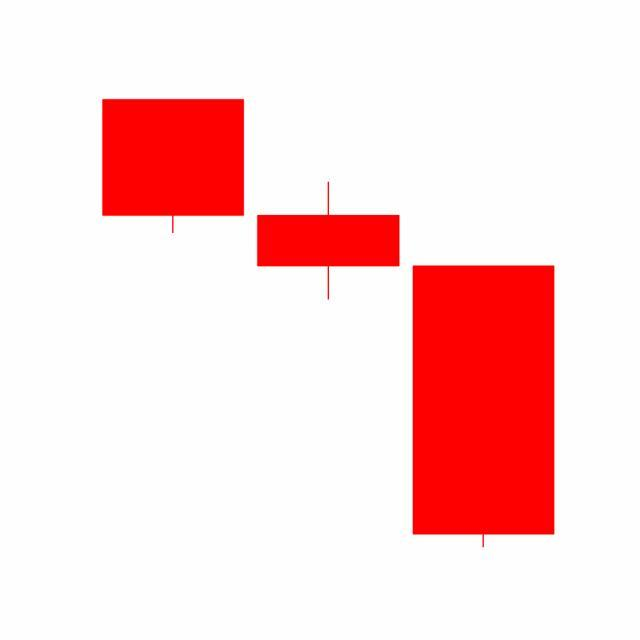Marubozu: (406, 264, 562, 552)
